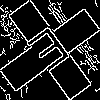E: (25, 25, 78, 81)
